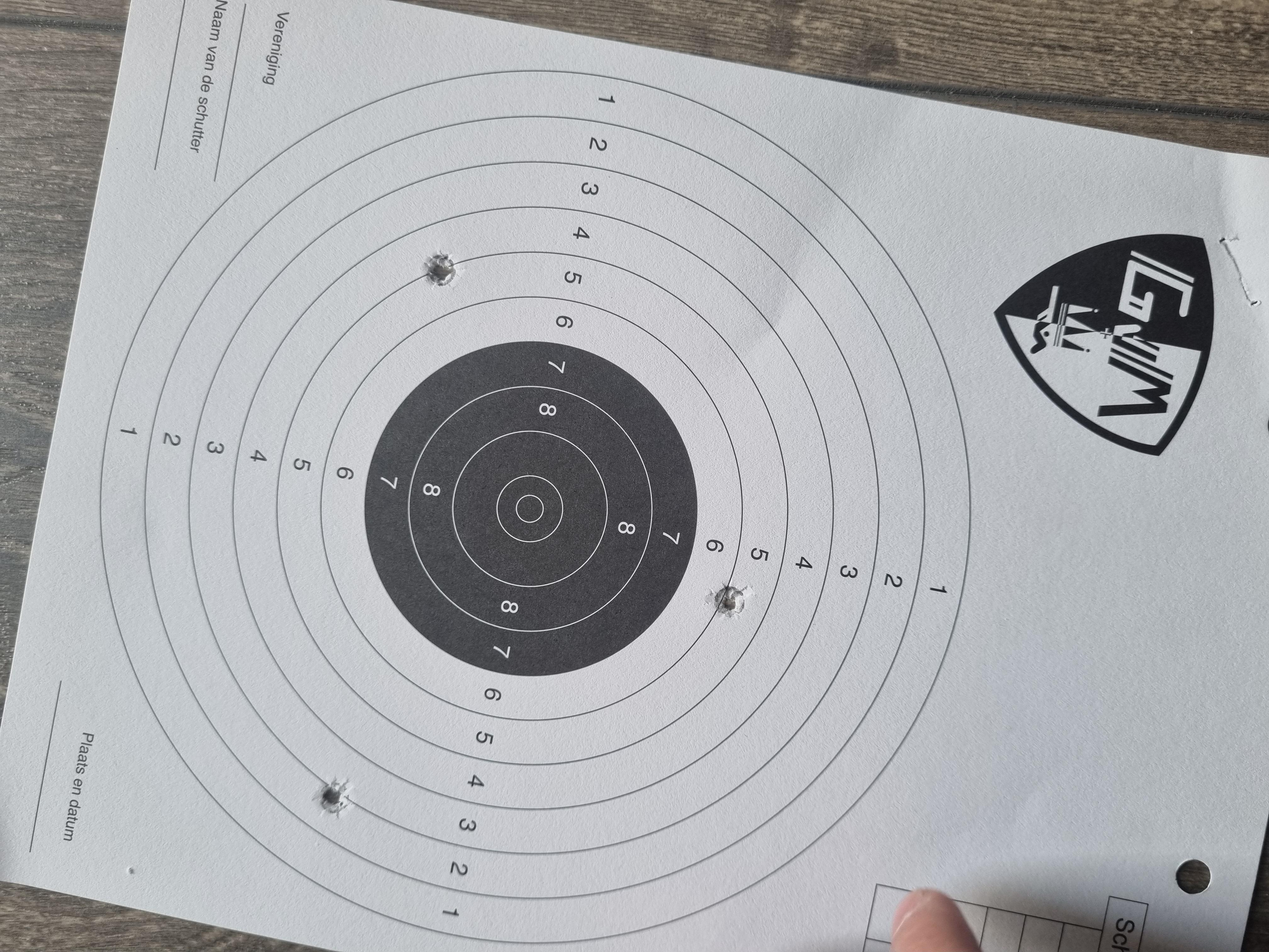hole: (881, 313, 932, 346), (446, 532, 492, 563), (182, 236, 231, 264)
